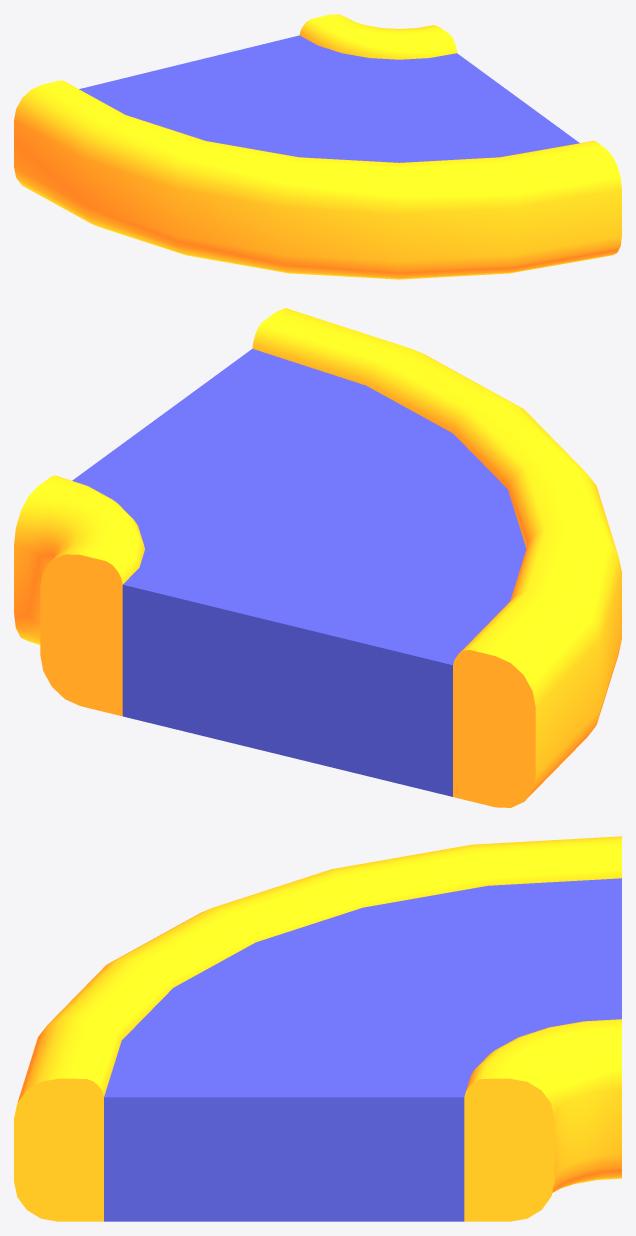
The model's file is yellow_corner.fbx.
The picture shows the model from 3 angles, top to bottom: view 1: azimuth 30°, elevation 25°; view 2: azimuth 150°, elevation 25°; view 3: azimuth 270°, elevation 25°; orthographic projection. The views are drawn at different scales.
Parts seen in each view (by area): view 1: Cube.001; view 2: Cube.001; view 3: Cube.001.
Part boxes in pixels (x1,y1,x2,y2): Cube.001: [14, 14, 621, 279]; Cube.001: [14, 308, 621, 807]; Cube.001: [14, 836, 621, 1221].
Bounding box in the file's own units: 270 × 70 × 270.
